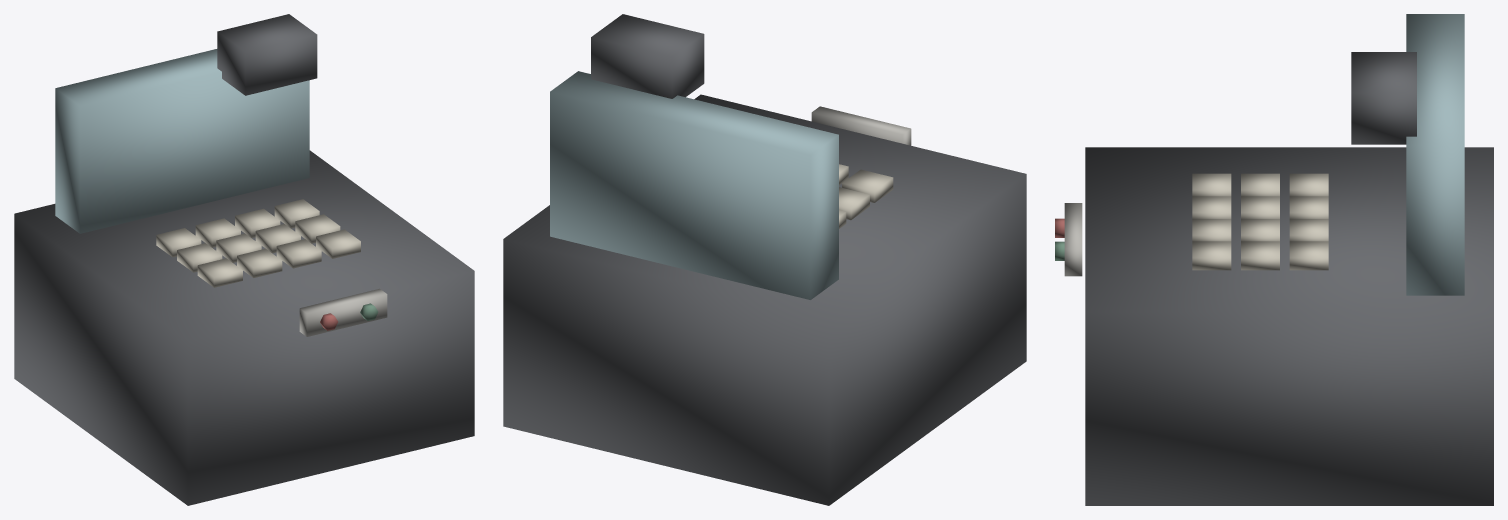
The model's file is cash_register__service.glb.
The picture shows the model from 3 angles, left to right: view 1: azimuth 30°, elevation 25°; view 2: azimuth 150°, elevation 25°; view 3: azimuth 270°, elevation 25°; orthographic projection. The views are drawn at different scales.
Parts seen in each view (by area): view 1: world; view 2: world; view 3: world.
Part boxes in pixels (x1,y1,x2,y2): world: (14, 14, 474, 505); world: (503, 14, 1026, 505); world: (1055, 14, 1493, 505).
Size of the model in its own units: 0.4 by 0.4392 by 0.451.
